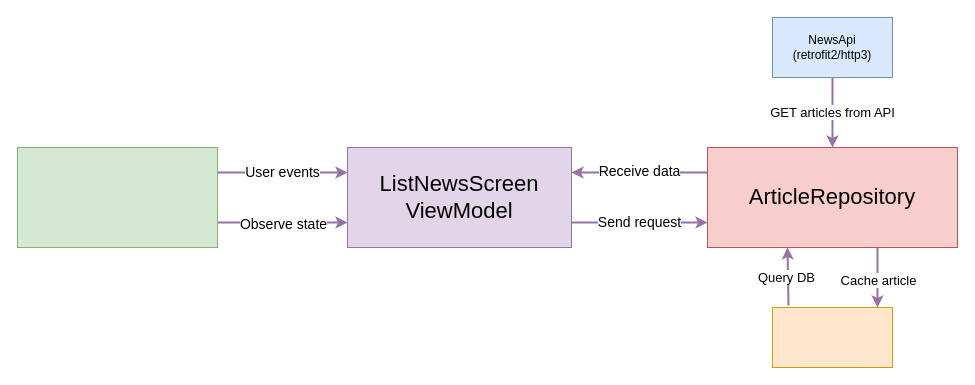
This 975x385 diagram has some shape labels left out. Each missing label, with the centre of its shape:
"ArticleDao (Room SQlite db)" belongs at (832,337).
"ListNewsScreen" belongs at (117,197).
